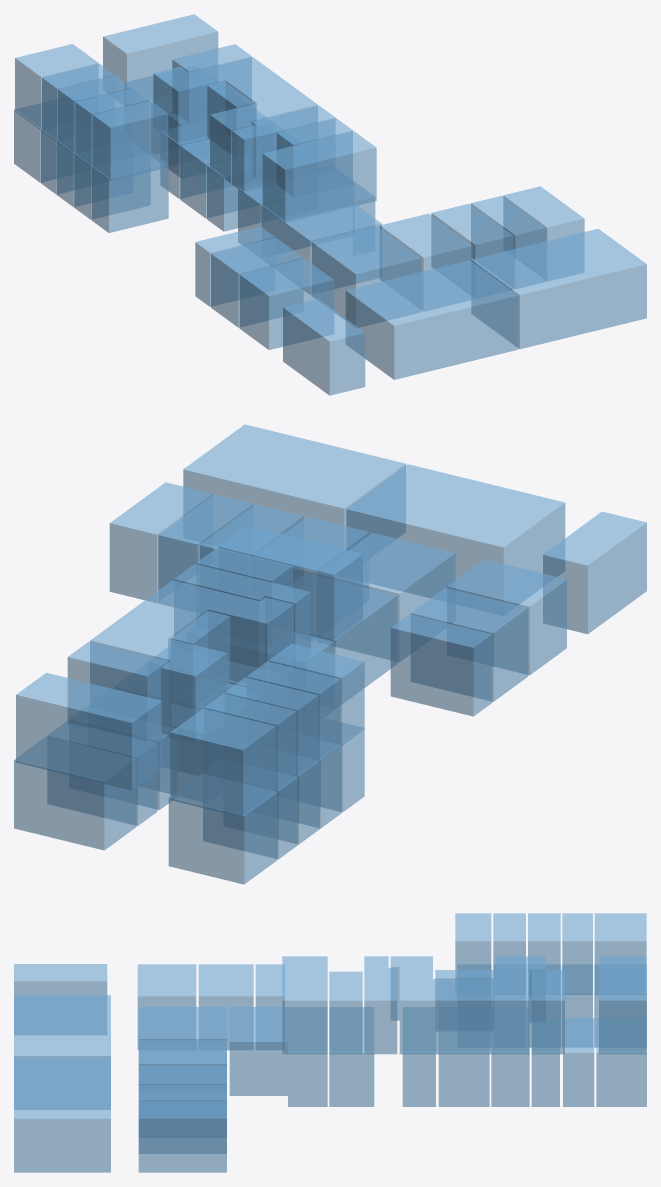
File: Hospital_Selection_Boxes.glb
The picture shows the model from 3 angles, top to bottom: view 1: azimuth 30°, elevation 25°; view 2: azimuth 150°, elevation 25°; view 3: azimuth 270°, elevation 25°; orthographic projection. The views are drawn at different scales.
Visible parts, largest first — view 1: Room_1, Room_Registry, Room_30, Room_10, Room_8, Room_33, Room_6, Room_28, Room_7, Room_5, Room_Pharmacy, Room_22 (+22 smaller); view 2: Room_Registry, Room_30, Room_1, Room_28, Room_17, Room_7, Room_8, Room_18, Room_6, Room_Pharmacy, Room_33, Room_27 (+22 smaller); view 3: Room_30, Room_1, Room_Registry, Room_10, Room_Pharmacy, Room_2, Room_3, Room_8, Room_28, Room_11, Room_6, Room_17 (+23 smaller).
Part boxes in pixels (x1=…): Room_1: x1=471, y1=229, x2=646, y2=348; Room_Registry: x1=345, y1=260, x2=518, y2=379; Room_30: x1=153, y1=57, x2=317, y2=183; Room_10: x1=261, y1=183, x2=381, y2=294; Room_8: x1=311, y1=226, x2=421, y2=327; Room_33: x1=262, y1=131, x2=376, y2=222; Room_6: x1=239, y1=258, x2=334, y2=349; Room_28: x1=103, y1=14, x2=218, y2=104; Room_7: x1=211, y1=238, x2=303, y2=327; Room_5: x1=379, y1=213, x2=472, y2=311; Room_Pharmacy: x1=283, y1=299, x2=365, y2=395; Room_22: x1=91, y1=152, x2=168, y2=232; Room_Registry: x1=346, y1=464, x2=565, y2=604; Room_30: x1=90, y1=580, x2=293, y2=743; Room_1: x1=183, y1=424, x2=405, y2=549; Room_28: x1=16, y1=672, x2=161, y2=790; Room_17: x1=14, y1=737, x2=136, y2=850; Room_7: x1=411, y1=588, x2=528, y2=701; Room_8: x1=317, y1=533, x2=455, y2=661; Room_18: x1=168, y1=773, x2=277, y2=884; Room_6: x1=447, y1=559, x2=566, y2=675; Room_Pharmacy: x1=543, y1=511, x2=646, y2=633; Room_33: x1=218, y1=526, x2=362, y2=641; Room_27: x1=170, y1=708, x2=276, y2=817; Room_30: x1=390, y1=956, x2=545, y2=1054; Room_1: x1=14, y1=1056, x2=110, y2=1172; Room_Registry: x1=14, y1=995, x2=110, y2=1109; Room_10: x1=229, y1=1007, x2=327, y2=1106; Room_Pharmacy: x1=14, y1=964, x2=107, y2=1034; Room_2: x1=138, y1=1100, x2=226, y2=1172; Room_3: x1=138, y1=1084, x2=226, y2=1153; Room_8: x1=138, y1=1007, x2=226, y2=1064; Room_28: x1=599, y1=956, x2=646, y2=1053; Room_11: x1=329, y1=1007, x2=374, y2=1106; Room_6: x1=137, y1=964, x2=196, y2=1049; Room_17: x1=596, y1=1018, x2=646, y2=1106.
Size of the model in its own units: 20.17 by 6.42 by 34.87.
